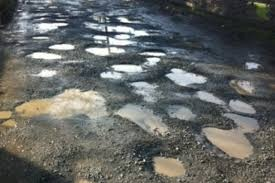pothole: (3, 88, 110, 125), (202, 110, 270, 161), (113, 101, 168, 136), (148, 152, 192, 178), (82, 20, 147, 36), (163, 68, 209, 88), (126, 80, 161, 102), (229, 74, 259, 96), (229, 95, 259, 115), (79, 43, 126, 55), (162, 103, 197, 119), (93, 33, 136, 45), (195, 91, 225, 107), (32, 20, 70, 32), (243, 59, 264, 77), (136, 48, 169, 58), (24, 51, 64, 59), (97, 71, 127, 81), (107, 64, 143, 72), (90, 10, 112, 22), (114, 14, 144, 22), (45, 41, 72, 49), (15, 11, 48, 17), (140, 58, 162, 66), (34, 69, 58, 75), (54, 12, 70, 20), (145, 29, 161, 37), (30, 35, 49, 39)
